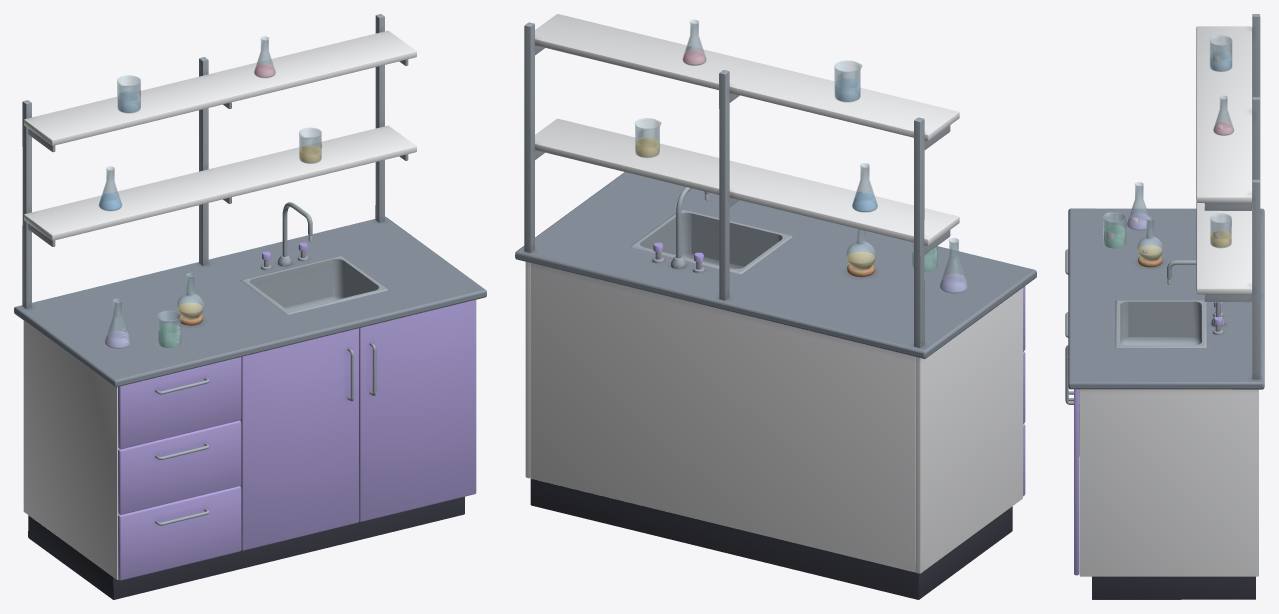
Rendered from lab-bench.glb.
3 views of the same model, side by side, from view 1: azimuth 30°, elevation 25°; view 2: azimuth 150°, elevation 25°; view 3: azimuth 270°, elevation 25° (orthographic). The views are drawn at different scales.
Parts seen in each view (by area): view 1: lab-bench_body, lab-bench, lab-bench_door_left, lab-bench_door_right, lab-bench_glassware_glass, lab-bench_liquid_fluid; view 2: lab-bench_body, lab-bench_glassware_glass, lab-bench_liquid_fluid; view 3: lab-bench_body, lab-bench_glassware_glass, lab-bench_liquid_fluid, lab-bench_door_right, lab-bench.
Boxes of the visible parts, x1,y1,x2,y2 form: lab-bench_body: [14, 14, 486, 599]; lab-bench: [118, 357, 241, 580]; lab-bench_door_left: [240, 328, 358, 550]; lab-bench_door_right: [359, 300, 476, 521]; lab-bench_glassware_glass: [98, 36, 321, 349]; lab-bench_liquid_fluid: [99, 63, 320, 348]; lab-bench_body: [515, 14, 1036, 599]; lab-bench_glassware_glass: [634, 19, 968, 293]; lab-bench_liquid_fluid: [635, 49, 967, 293]; lab-bench_body: [1068, 14, 1264, 599]; lab-bench_glassware_glass: [1103, 35, 1234, 261]; lab-bench_liquid_fluid: [1104, 50, 1233, 261]; lab-bench_door_right: [1065, 355, 1079, 575]; lab-bench: [1065, 249, 1079, 456].
Size of the model in its own units: 1.52 by 1.79 by 0.731.
Materials: 13 (6 with a texture image).
